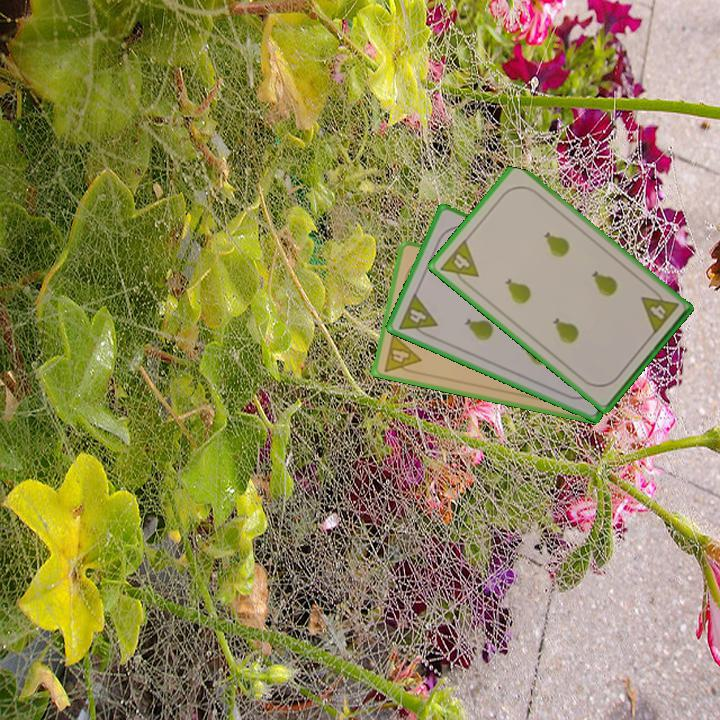4p: (437, 236, 482, 290), (637, 284, 681, 337), (395, 290, 440, 341), (380, 330, 423, 377)
